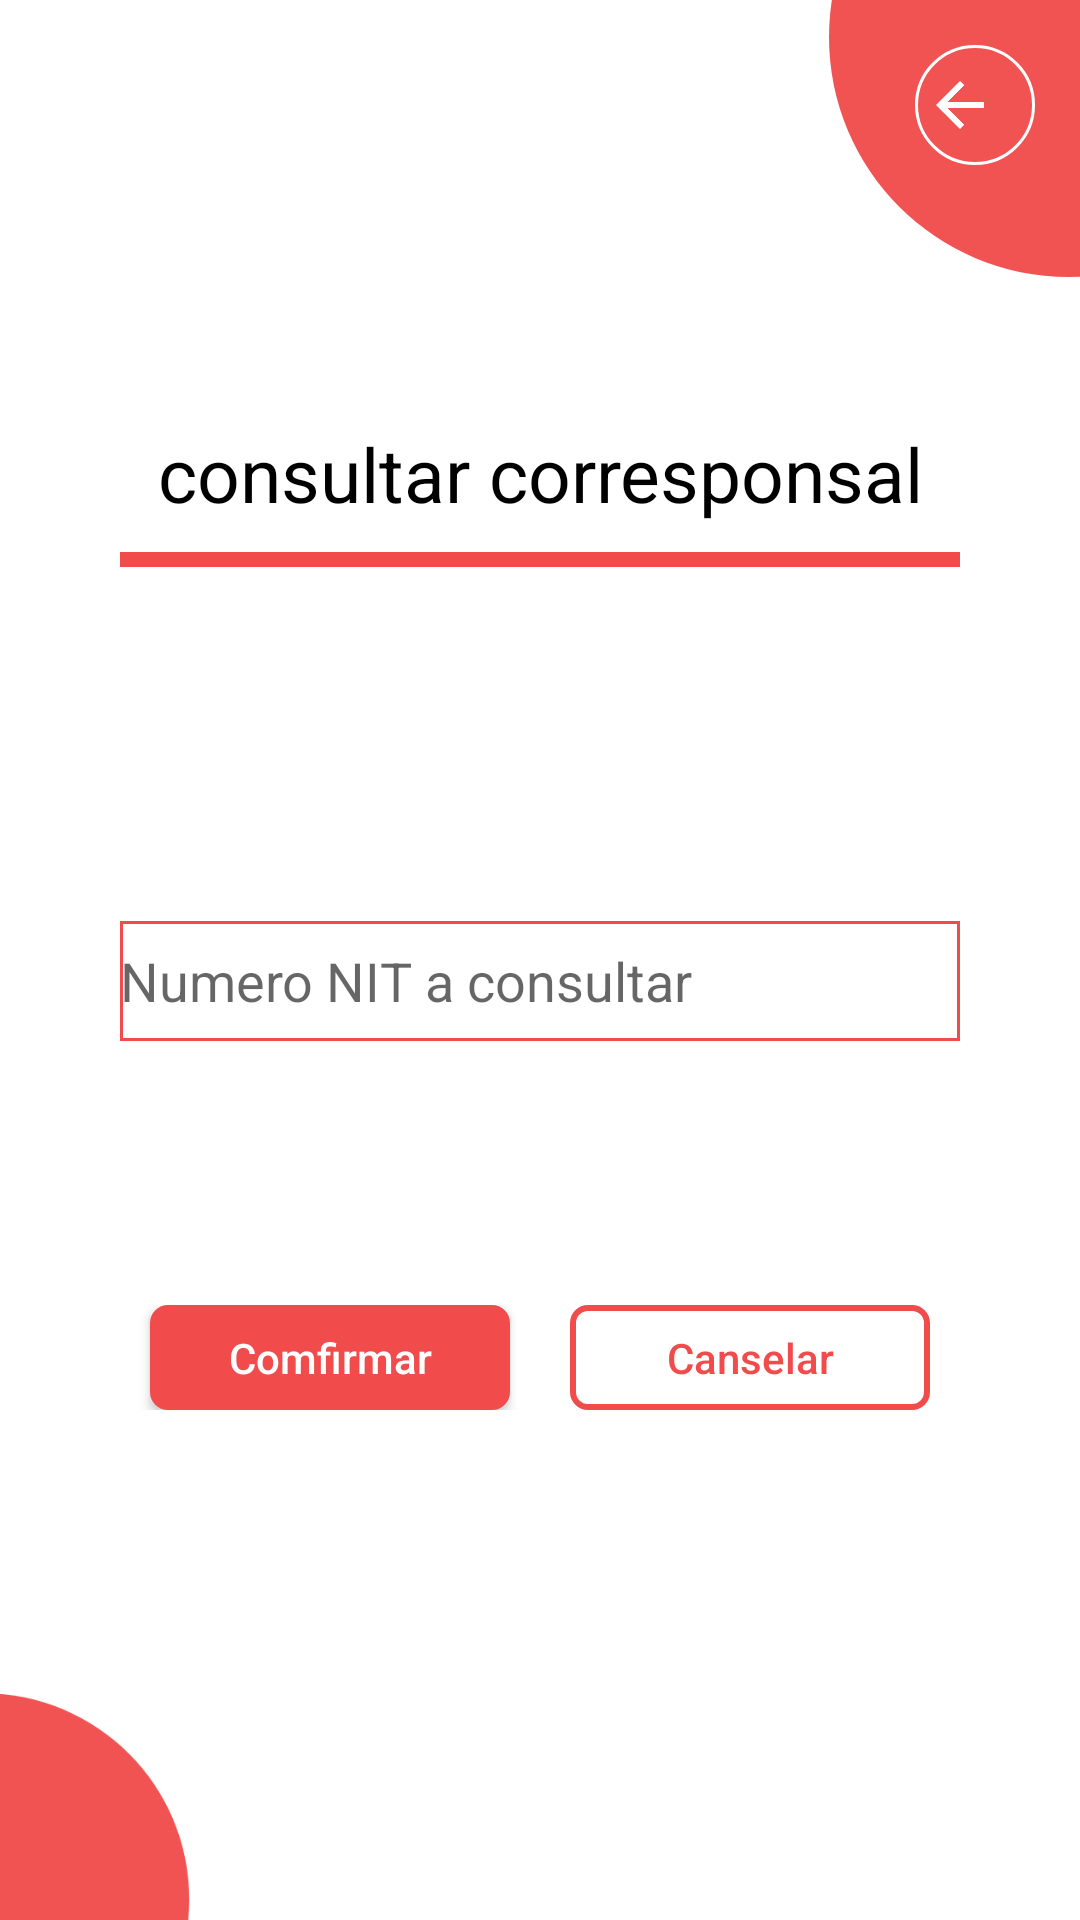

Screen size 1080×1920. Icon name, then its center in pixels as point (x, y):
back: point (975, 105)
